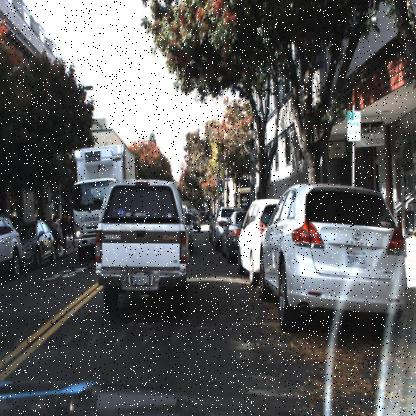car: (257, 178, 409, 346), (91, 172, 198, 327), (65, 139, 143, 263), (236, 192, 279, 286), (16, 214, 57, 274), (21, 212, 55, 264), (0, 210, 25, 278), (221, 210, 242, 264), (179, 198, 200, 251), (191, 207, 201, 231)
trafficLight-Green: (216, 177, 224, 194)
truck: (73, 145, 113, 261)
